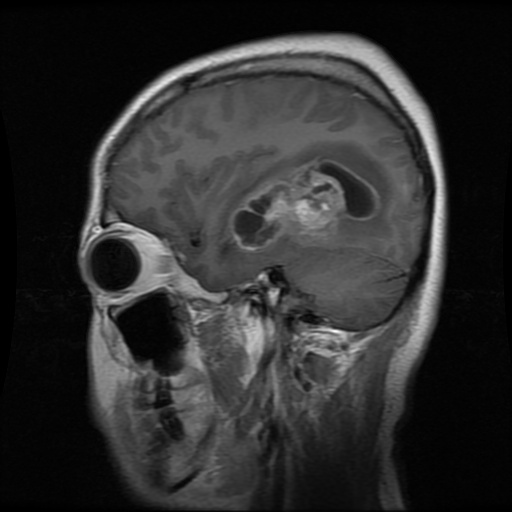glioma: (225, 143, 395, 249)
